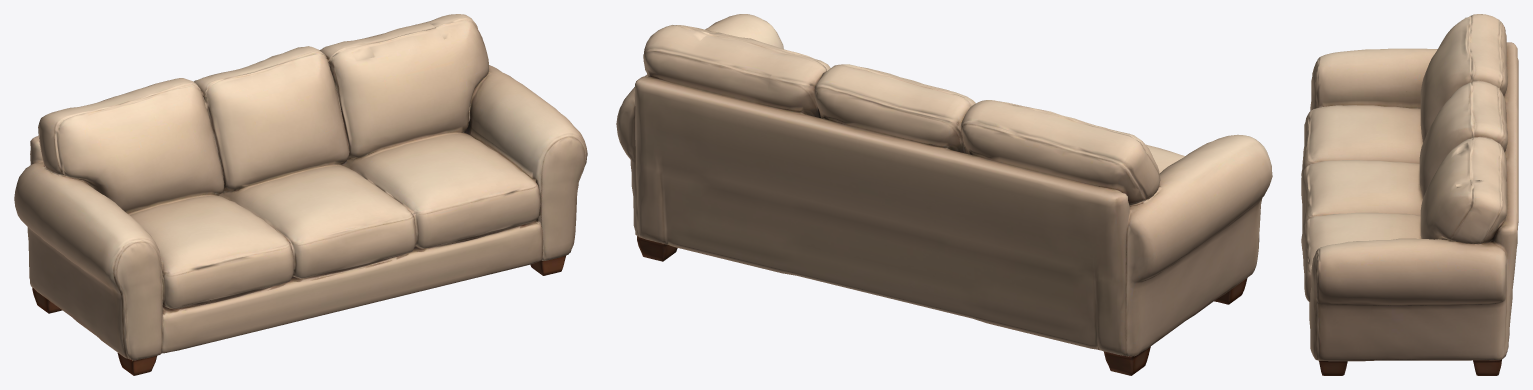
The model's file is family-sofa-stylized-v2.glb.
3 renders of one model, left to right at view 1: azimuth 30°, elevation 25°; view 2: azimuth 150°, elevation 25°; view 3: azimuth 270°, elevation 25°, orthographic. The views are drawn at different scales.
Parts seen in each view (by area): view 1: family-sofa-stylized-v2; view 2: family-sofa-stylized-v2; view 3: family-sofa-stylized-v2.
Part boxes in pixels (<box>): family-sofa-stylized-v2: <box>14,14,587,375</box>; family-sofa-stylized-v2: <box>616,14,1272,375</box>; family-sofa-stylized-v2: <box>1301,14,1518,375</box>.
Size of the model in its own units: 2 by 0.7789 by 0.8493.
Materials: 1 (1 with a texture image).
